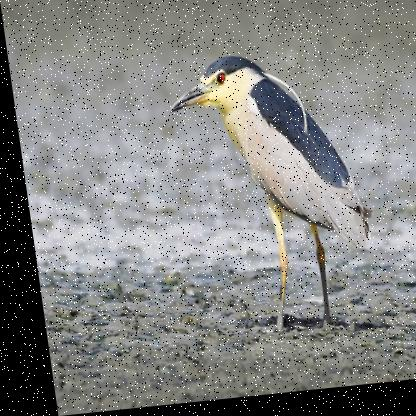Burung: (159, 52, 379, 354)
